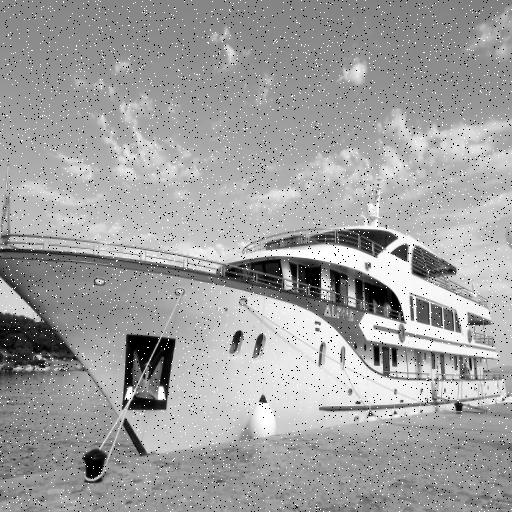cruises: (1, 178, 512, 459)
